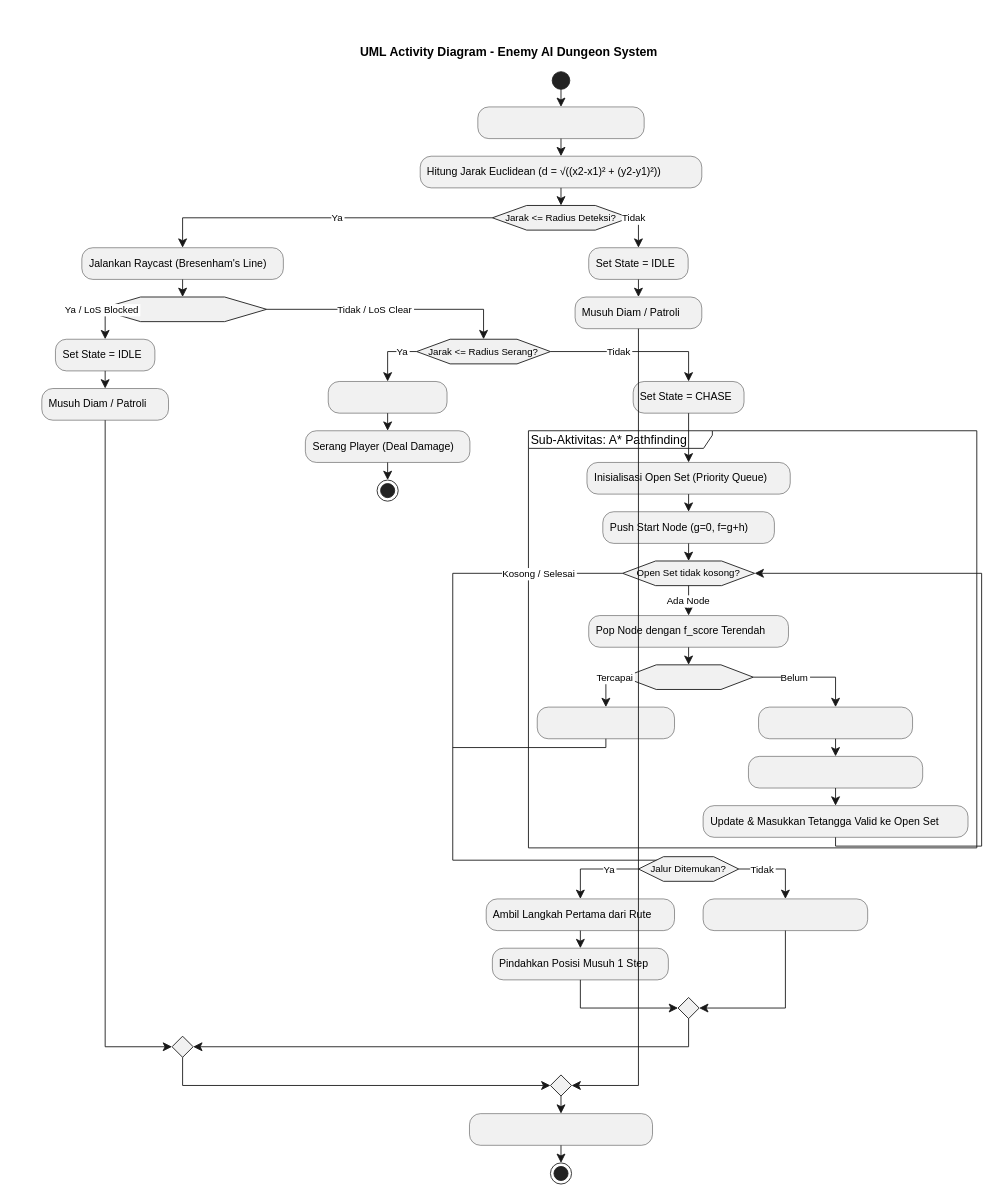
The diagram is 1006 pixels wide and 1199 high, and some of its shapes have lost their labels. Each missing label, with the centre of its shape:
"Baca Posisi Enemy dan Player" goes at (560,122).
"Evaluasi Tetangga (4 Arah)" goes at (835,722).
"Hitung tentative_g dan f_score" goes at (835,772).
"Musuh Diam (Jalur Terblokir)" goes at (785,914).
"Node == Posisi Player?" goes at (688,676).
"Pandangan Terhalang Tembok?" goes at (182,309).
"Rekonstruksi Rute Jalur" goes at (605,722).
"Set State = ATTACK" goes at (387,397).
"Tunggu Frame / Tick Berikutnya" goes at (560,1129).
